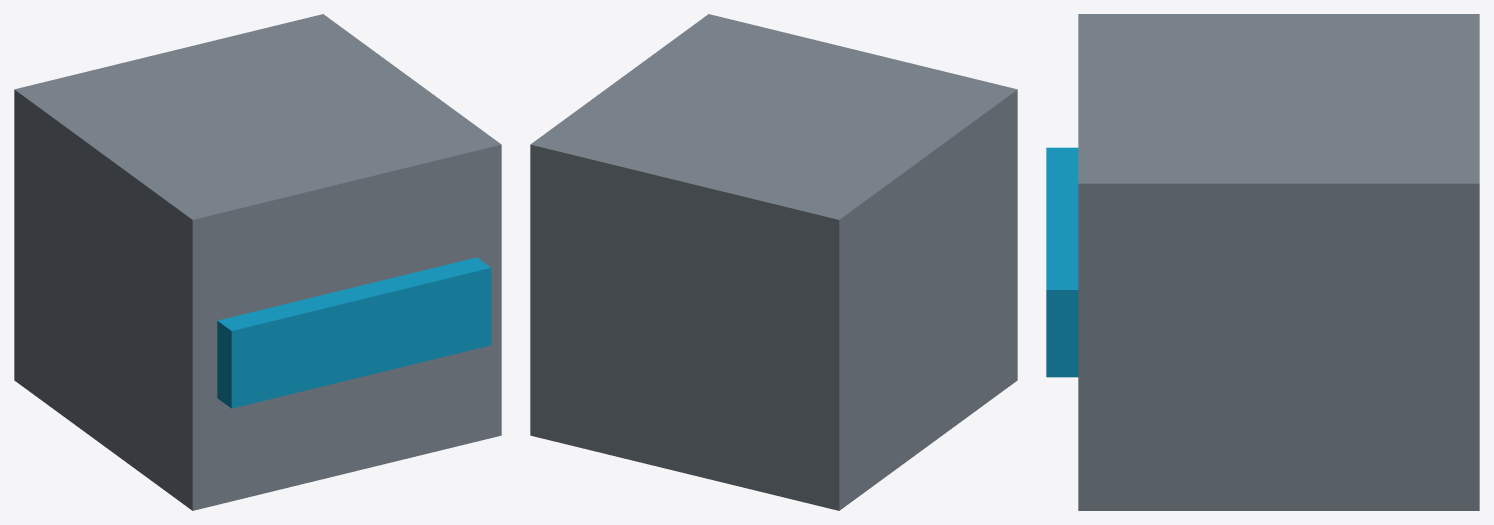
The model's file is head_line.obj.
3 views of the same model, side by side, from view 1: azimuth 30°, elevation 25°; view 2: azimuth 150°, elevation 25°; view 3: azimuth 270°, elevation 25° (orthographic). The views are drawn at different scales.
Size of the model in its own units: 0.5 by 0.45 by 0.54.
